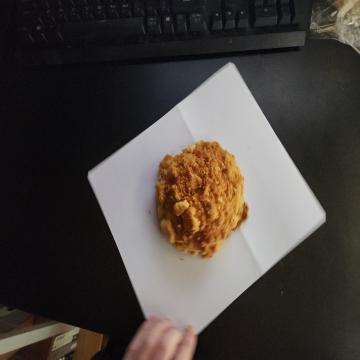soboru_bread: (157, 139, 251, 258)
